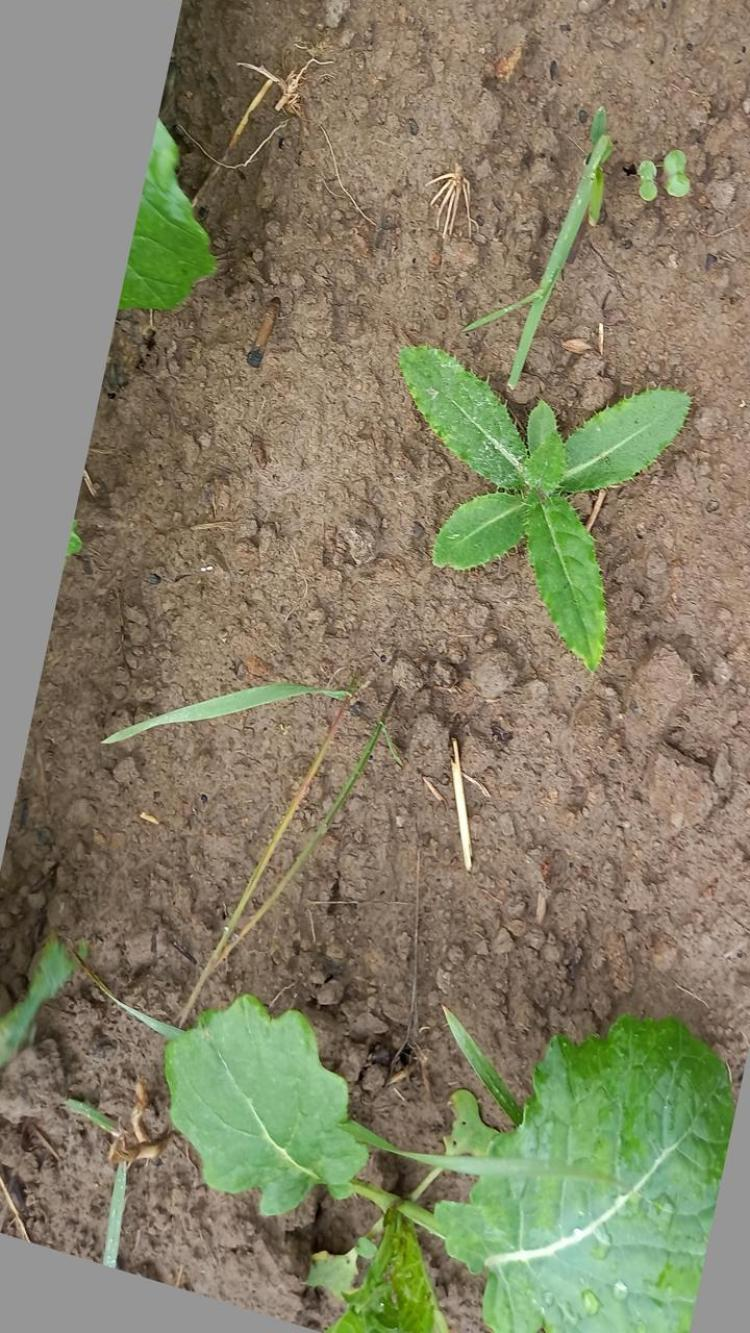bodyak: (386, 337, 692, 675)
